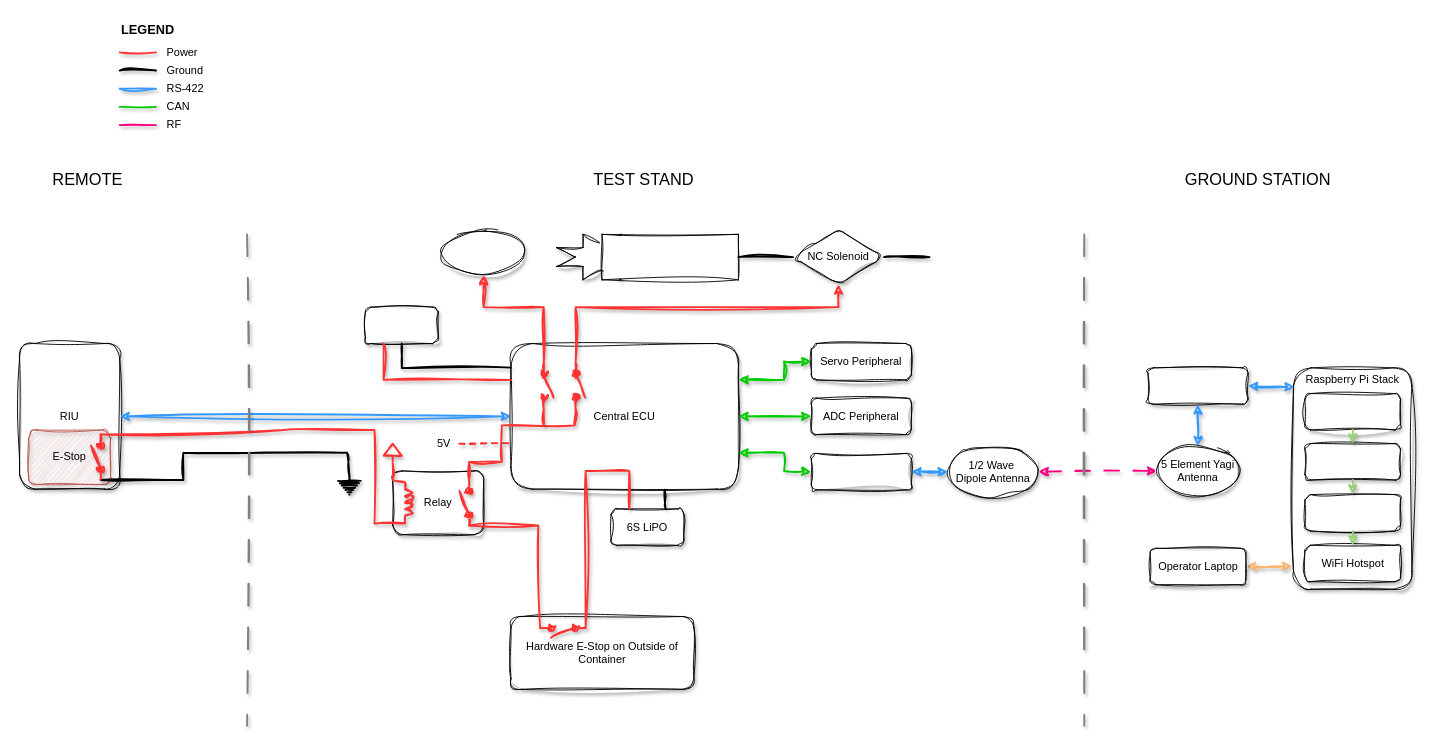
Image size: 1433x749. Some labels were removed from this diagram. Here are the shapes that lost their labels. From the top down, the centre of each, then its label:
(x=484, y=253): Ignitors
(x=402, y=326): 2S LiPO
(x=1198, y=387): SX1262 LoRa Module
(x=1353, y=412): Python Radio Drive Code
(x=862, y=472): Radio Peripheral
(x=1353, y=462): Time Series Database
(x=1353, y=513): Live Dashboard
